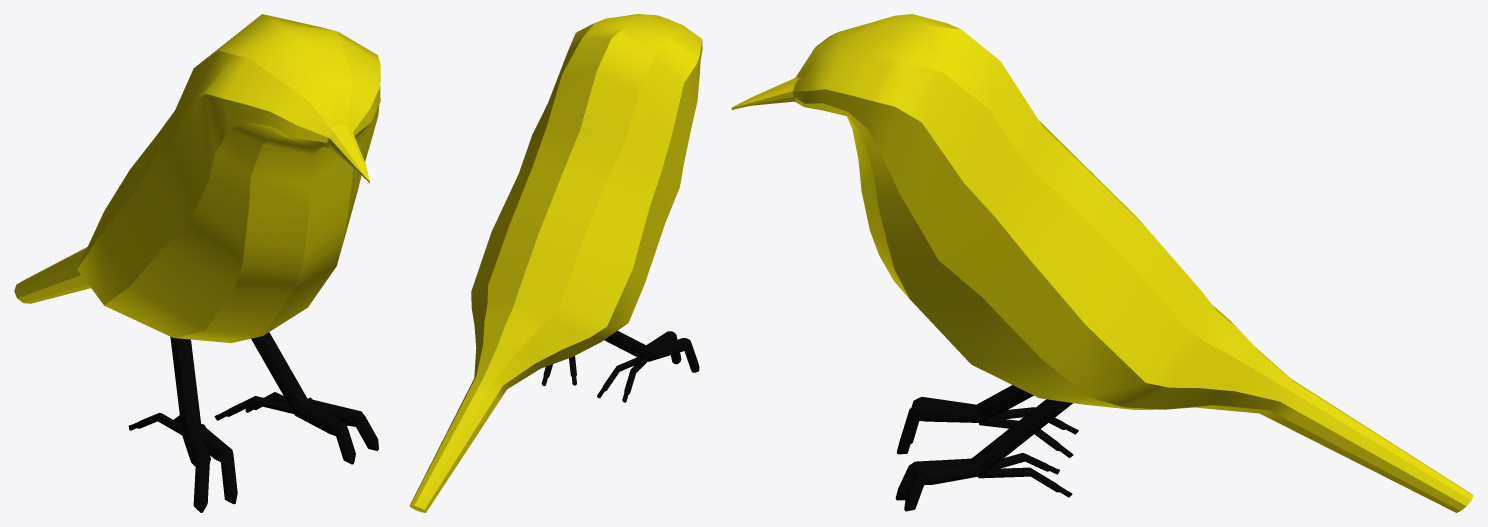
The model's file is Bird_Landing.fbx.
3 renders of one model, left to right at view 1: azimuth 30°, elevation 25°; view 2: azimuth 150°, elevation 25°; view 3: azimuth 270°, elevation 25°, orthographic. The views are drawn at different scales.
Parts seen in each view (by area): view 1: pCylinder8; view 2: pCylinder8; view 3: pCylinder8.
Boxes of the visible parts, x1=… form: pCylinder8: x1=14, y1=14, x2=380, y2=512; pCylinder8: x1=409, y1=14, x2=702, y2=512; pCylinder8: x1=731, y1=14, x2=1473, y2=512.
Size of the model in its own units: 10.7 by 24.68 by 34.71.
